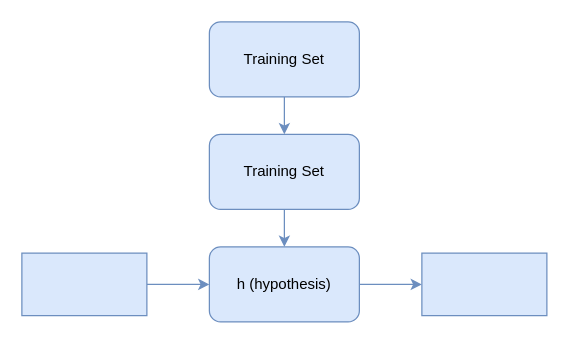
This 569x344 diagram has some shape labels left out. The shapes that lost their labels are listed below. From the top down, each one's centre as x and y in pixels, then its label:
At (84,284): "x input".
At (484,284): "y output".
